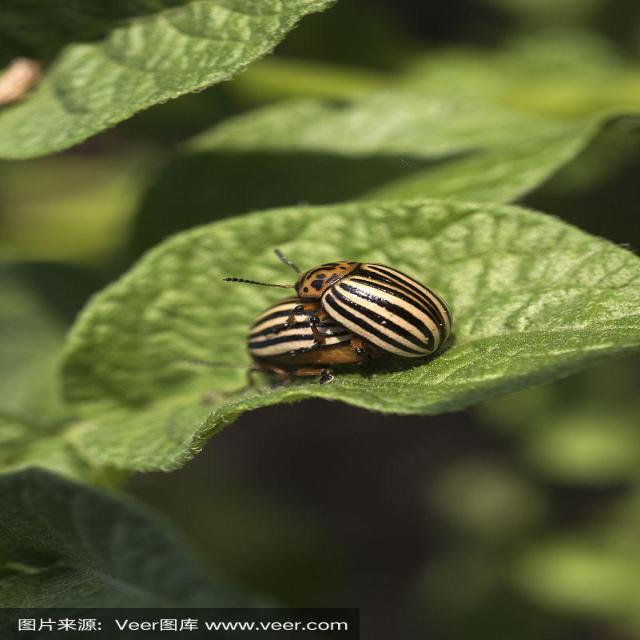ShuCaiHuaBanChong-Grown-: (268, 248, 446, 359), (262, 301, 404, 381)
